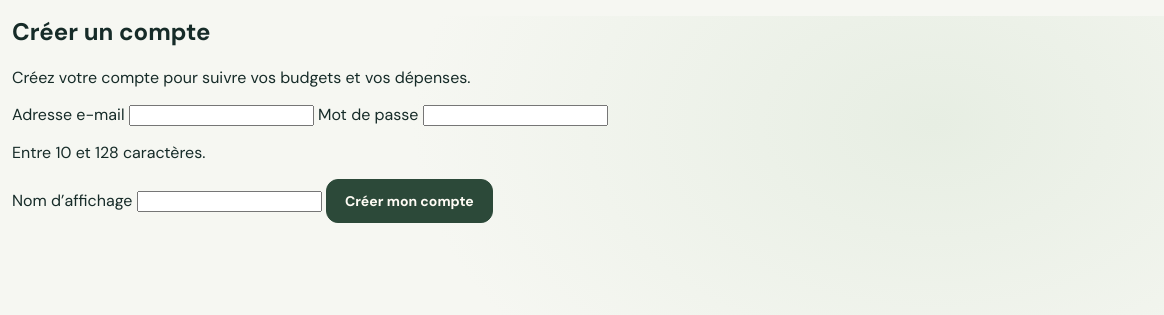
Test: Formulaire d’inscription › garde le formulaire et les saisies quand l’adresse est déjà prise (409)
Type "alice@example.test" into the field labelled "Adresse e-mail" at (221, 115), box left=129, top=105, right=314, bottom=126
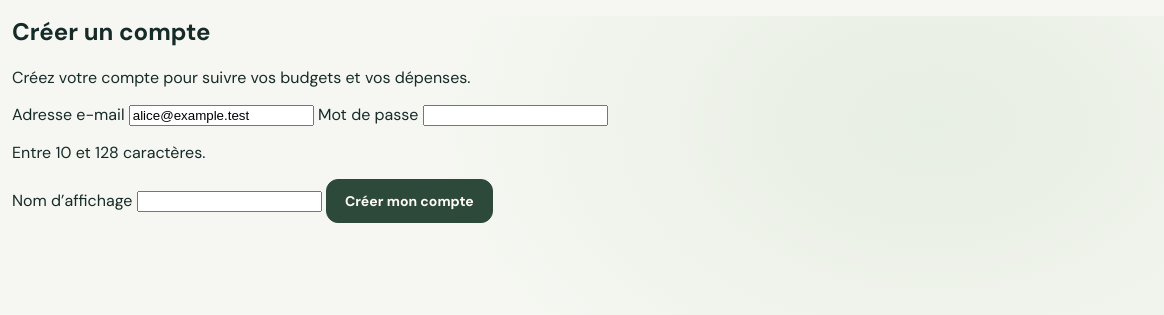
Type "mot-de-passe-solide" into the password field labelled "Mot de passe" at (515, 115), box left=423, top=105, right=608, bottom=126
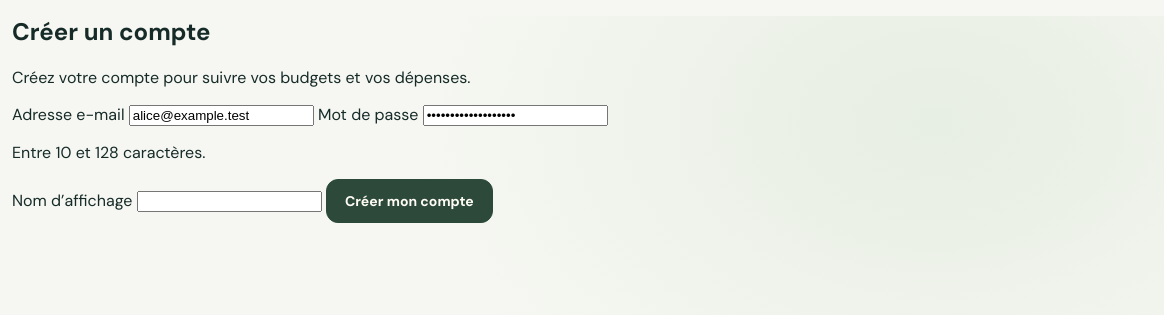
Type "Alice" into the field labelled "Nom d’affichage" at (229, 201), box left=137, top=191, right=322, bottom=212
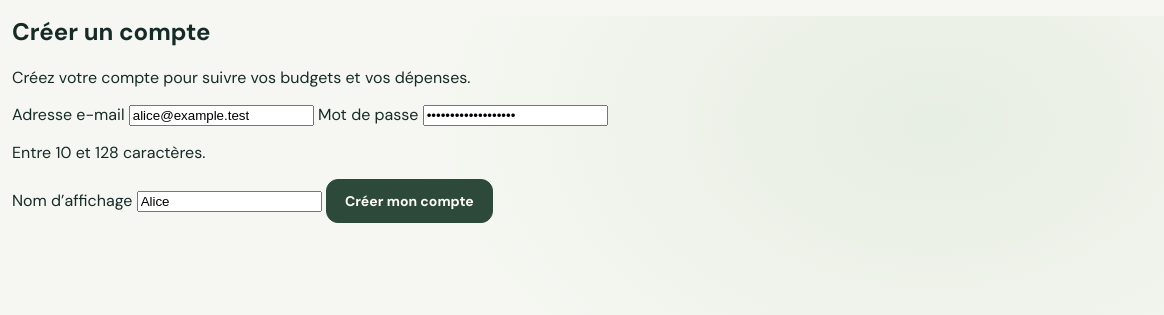
Click the button "Créer mon compte" at (409, 201), box left=326, top=179, right=493, bottom=223
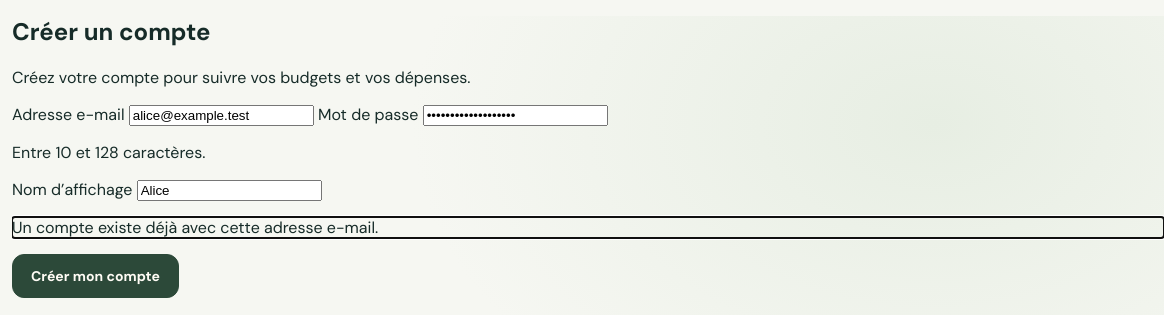
Expected: the button "Créer mon compte" is enabled, left=12, top=254, right=179, bottom=298
Result: the message reads "Un compte existe déjà avec cette adresse e-mail." at left=12, top=217, right=378, bottom=238
